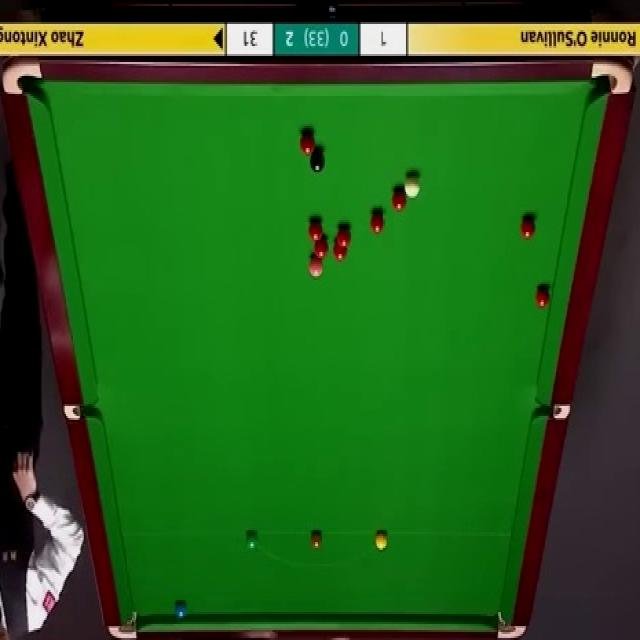pocket: (3, 55, 45, 97), (591, 58, 634, 98), (493, 609, 529, 640), (109, 611, 138, 638), (534, 403, 573, 419), (64, 404, 99, 418)
